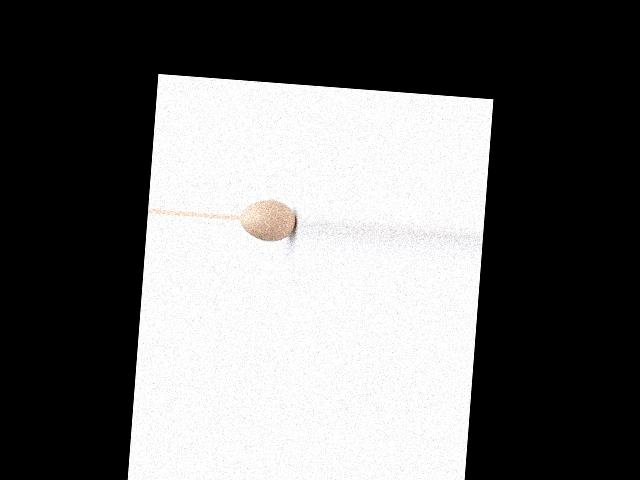egg: (239, 197, 297, 242)
